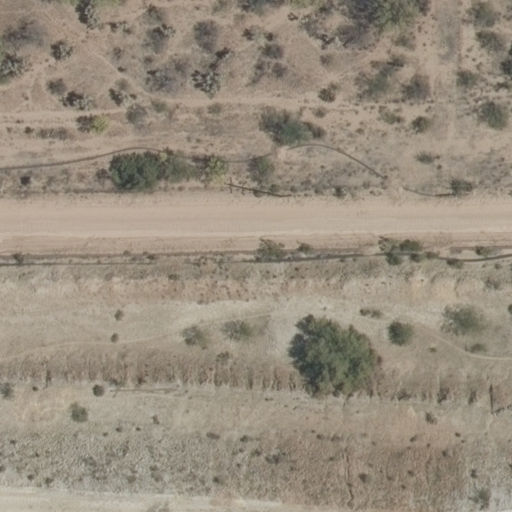DT: (272, 187, 298, 207)
